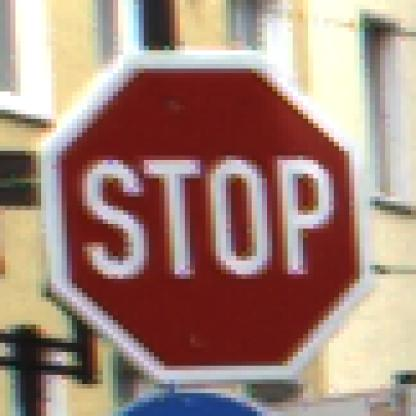stop: (42, 48, 366, 379)
